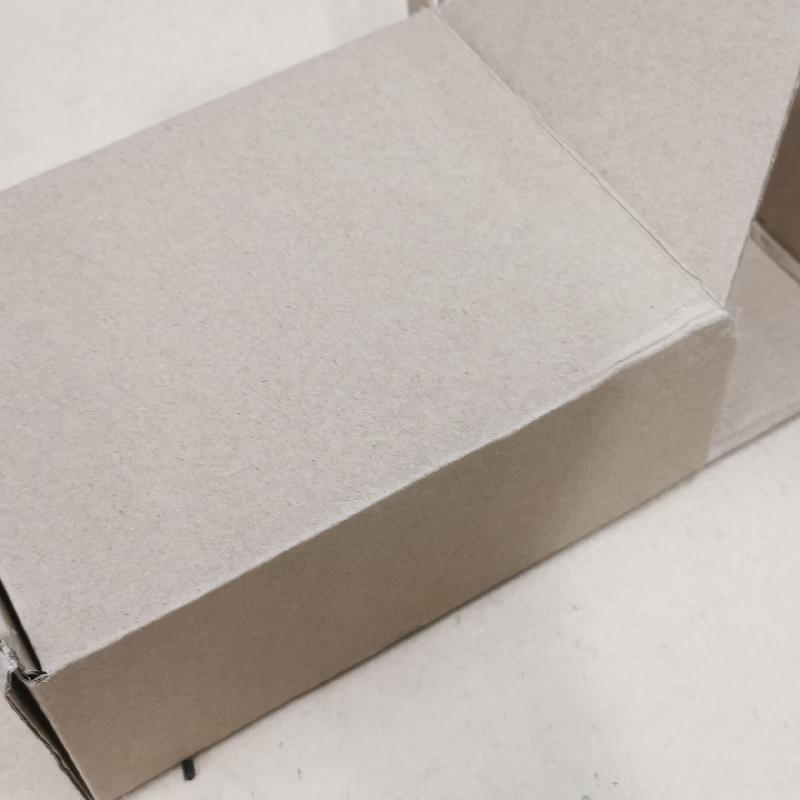boxes: (1, 27, 799, 795)
